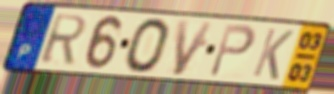6: (83, 13, 125, 72)
K: (250, 26, 296, 82)
O: (123, 16, 173, 75)
P: (206, 22, 258, 80)
R: (37, 13, 90, 66)
V: (172, 19, 217, 78)
